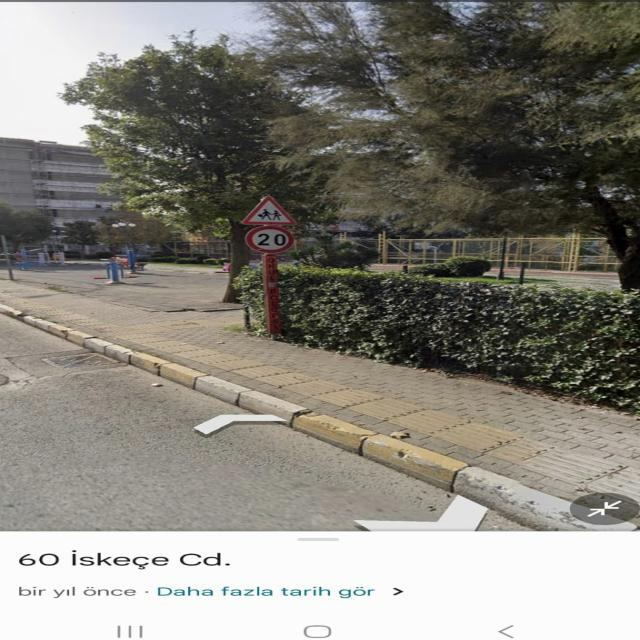okul_gecidi: (241, 195, 299, 225)
